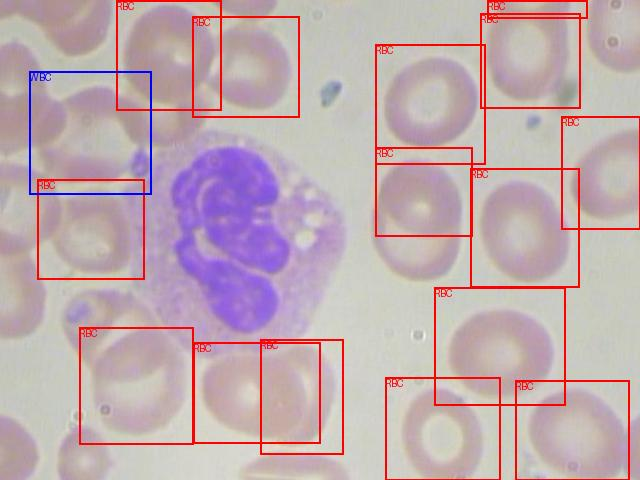RBC: (434, 287, 565, 405), (79, 327, 193, 444), (375, 44, 485, 164), (470, 168, 579, 287), (193, 342, 320, 443), (385, 377, 500, 480), (116, 0, 221, 110), (515, 380, 629, 480), (192, 16, 299, 117), (37, 179, 144, 279), (260, 339, 343, 454), (480, 13, 580, 108), (561, 116, 640, 229), (375, 147, 472, 236), (487, 0, 587, 18)
WBC: (29, 71, 151, 194)
